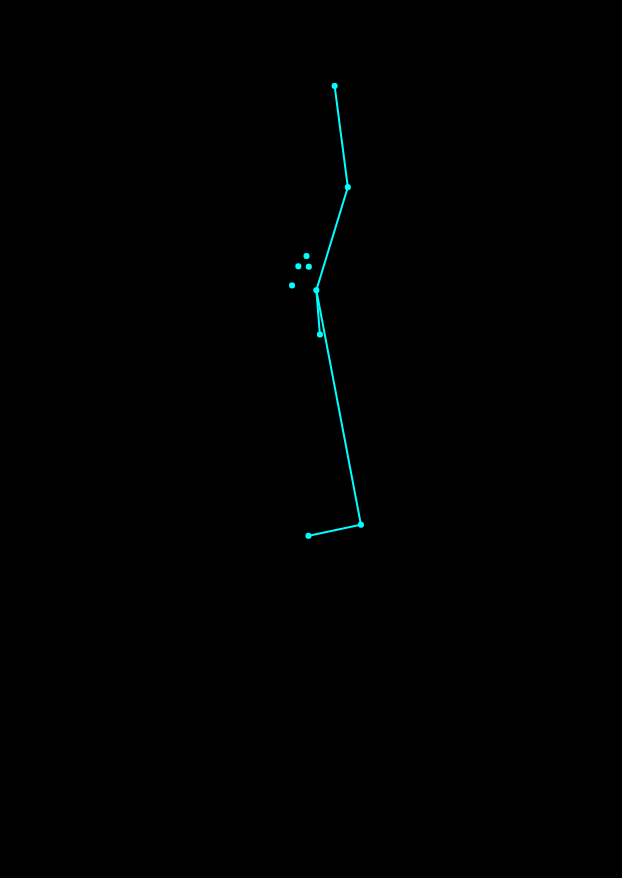warrior_1: (235, 61, 392, 553)
